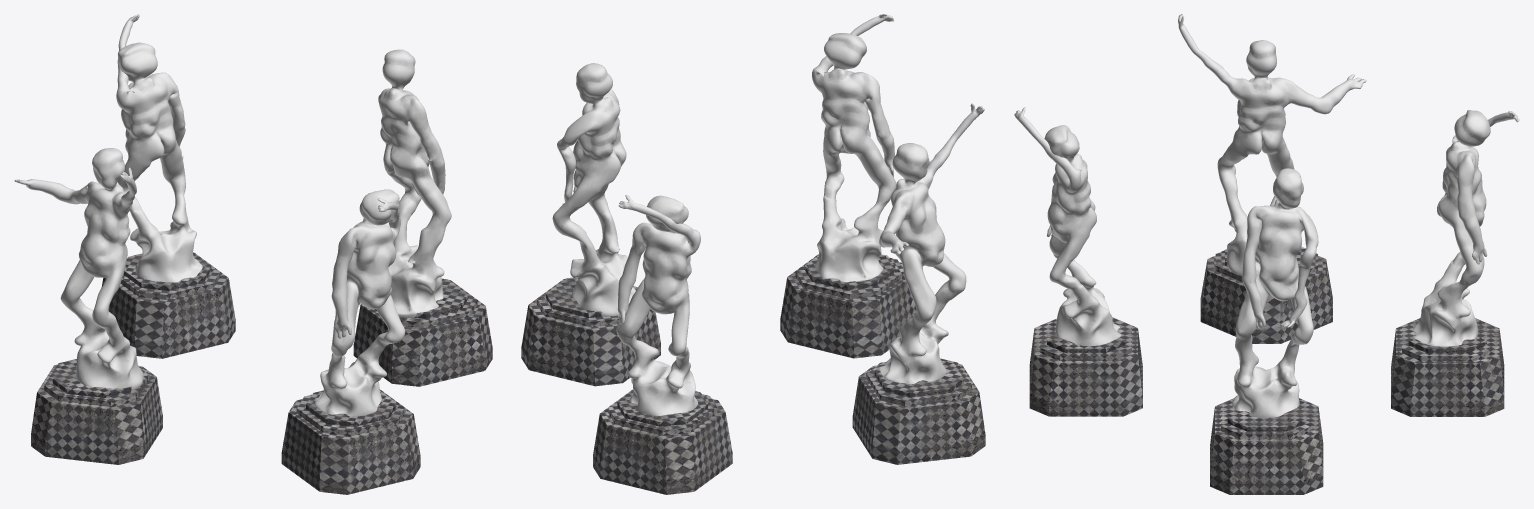
File: SM_ImpassNew_Statue06.fbx
The picture shows the model from 3 angles, left to right: view 1: azimuth 30°, elevation 25°; view 2: azimuth 150°, elevation 25°; view 3: azimuth 270°, elevation 25°; orthographic projection. The views are drawn at different scales.
Visible parts, largest first — view 1: SM_ImpassNew_Statue06; view 2: SM_ImpassNew_Statue06; view 3: SM_ImpassNew_Statue06.
Part boxes in pixels (x1,y1,x2,y2): SM_ImpassNew_Statue06: [14, 14, 492, 494]; SM_ImpassNew_Statue06: [521, 14, 985, 494]; SM_ImpassNew_Statue06: [1014, 14, 1519, 494].
Size of the model in its own units: 1015 by 676 by 1047.
